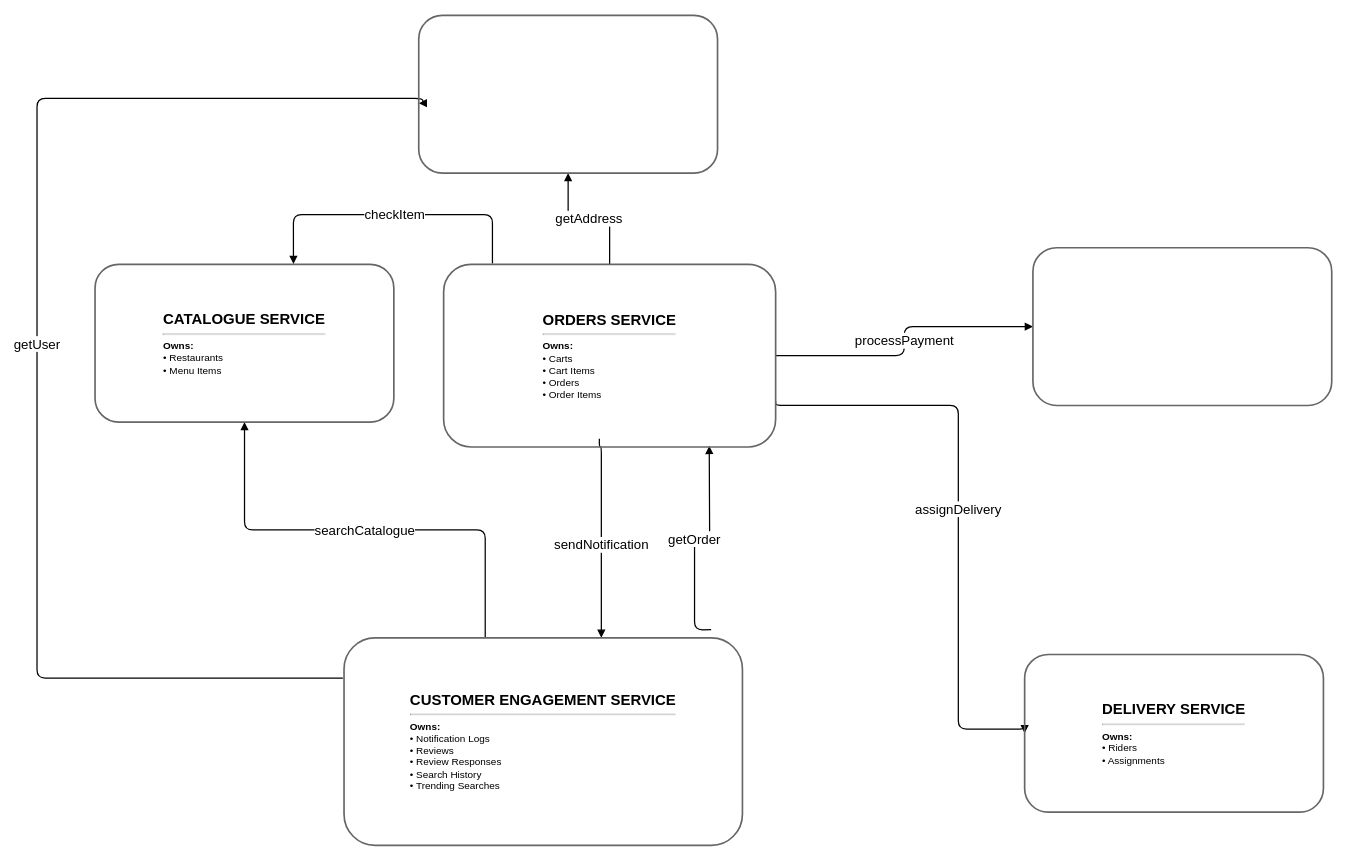
Image size: 1347x860. Some labels were removed from this diagram. The centre of each missing label's shape, as x and y in pixels:
ACCOUNTS SERVICE Owns: • Users • Addresses: the point at 567,93
PAYMENTS SERVICE Owns: • Transactions: the point at 1182,326
